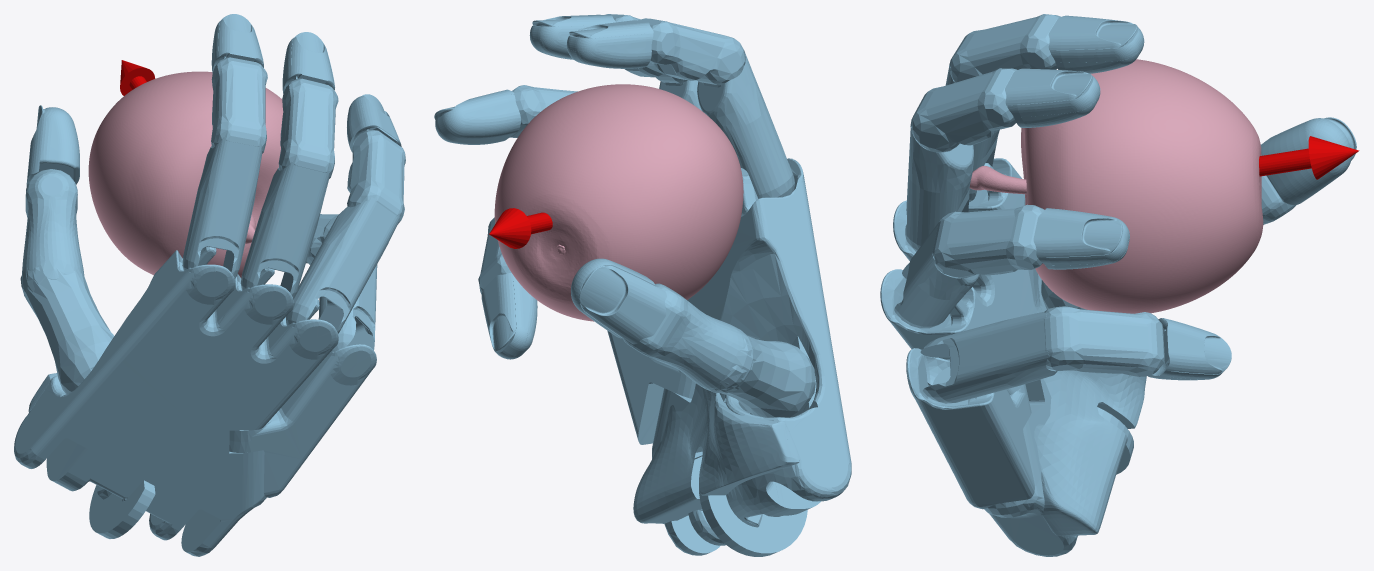
3 views of the same model, side by side, from view 1: azimuth 30°, elevation 25°; view 2: azimuth 150°, elevation 25°; view 3: azimuth 270°, elevation 25° (orthographic). The views are drawn at different scales.
Visible parts, largest first — view 1: world, apple.stl; view 2: world, apple.stl; view 3: world, apple.stl.
Part boxes in pixels (x1=…): world: x1=14, y1=14, x2=405, y2=556; apple.stl: x1=88, y1=71, x2=283, y2=277; world: x1=434, y1=14, x2=851, y2=556; apple.stl: x1=494, y1=84, x2=743, y2=321; world: x1=880, y1=14, x2=1359, y2=556; apple.stl: x1=969, y1=59, x2=1263, y2=313.
Size of the model in its own units: 0.1483 by 0.1873 by 0.1424.
